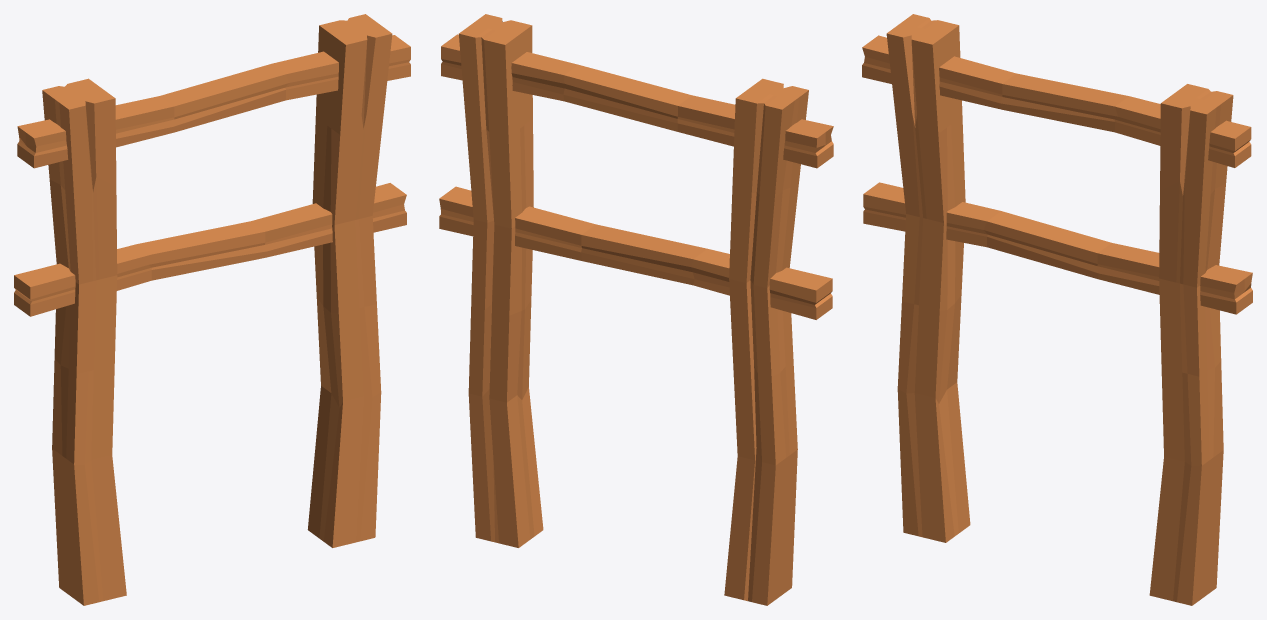
File: Zaun_Einzelstück.fbx
The picture shows the model from 3 angles, left to right: view 1: azimuth 30°, elevation 25°; view 2: azimuth 150°, elevation 25°; view 3: azimuth 330°, elevation 25°; orthographic projection.
Visible parts, largest first — view 1: Zaun.002; view 2: Zaun.002; view 3: Zaun.002.
Part boxes in pixels (x1=…): Zaun.002: x1=14, y1=14, x2=410, y2=605; Zaun.002: x1=439, y1=14, x2=833, y2=605; Zaun.002: x1=862, y1=14, x2=1252, y2=605.
Bounding box in the file's own units: 1.74 × 2.22 × 0.2147.
